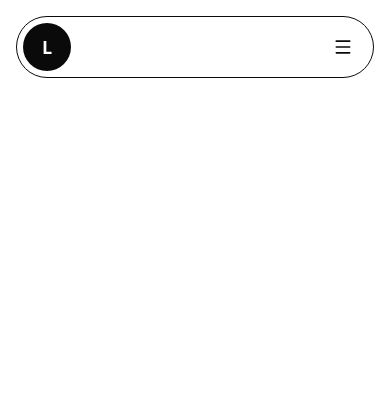
Test: Nav mobile menu › closes automatically when navigation changes the current path
This screenshot has width=390, height=409.
Later steps or results of the test are not shown.
Click the button named "Open menu" at (343, 47), box [319,23,367,71]
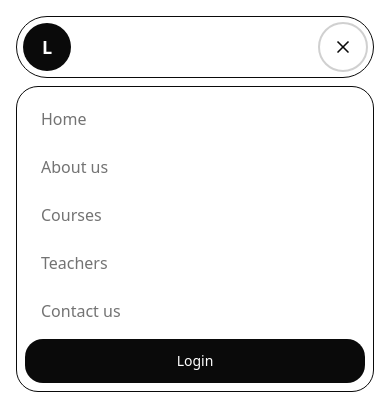
expect the button named "Close menu" is shown: met, box [319,23,367,71]
